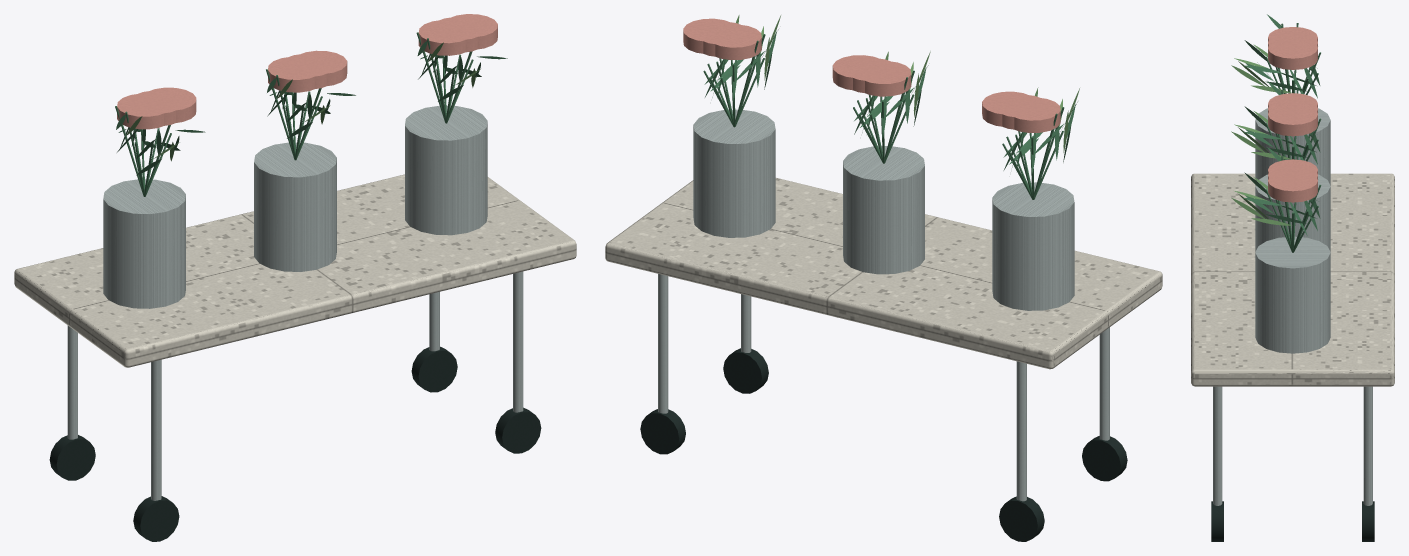
The model's file is detail-flower-cart-0.glb.
The picture shows the model from 3 angles, left to right: view 1: azimuth 30°, elevation 25°; view 2: azimuth 150°, elevation 25°; view 3: azimuth 270°, elevation 25°; orthographic projection. The views are drawn at different scales.
Parts seen in each view (by area): view 1: cart_shelf, flower_bucket (×3), flowers (×9), wheel (×4), cart_leg (×3); view 2: cart_shelf, flower_bucket (×3), flowers (×8), wheel (×4), cart_leg (×3); view 3: cart_shelf, flower_bucket (×3), flowers (×9), cart_leg (×2), wheel (×2).
Boxes of the visible parts, <box> form: cart_shelf: <box>14,174,576,367</box>; flower_bucket (×3): <box>103,105,487,308</box>; flowers (×9): <box>117,14,497,129</box>; wheel (×4): <box>49,346,541,541</box>; cart_leg (×3): <box>67,271,523,500</box>; cart_shelf: <box>605,178,1162,369</box>; flower_bucket (×3): <box>693,109,1074,310</box>; flowers (×8): <box>695,21,1060,132</box>; wheel (×4): <box>640,348,1127,541</box>; cart_leg (×3): <box>658,274,1109,501</box>; cart_shelf: <box>1191,173,1394,386</box>; flower_bucket (×3): <box>1255,108,1330,353</box>; flowers (×9): <box>1268,27,1317,202</box>; cart_leg (×2): <box>1213,386,1372,505</box>; wheel (×2): <box>1211,501,1374,541</box>.
Size of the model in its own units: 1.5 by 1.29 by 0.65.
6 materials, 6 textured.
